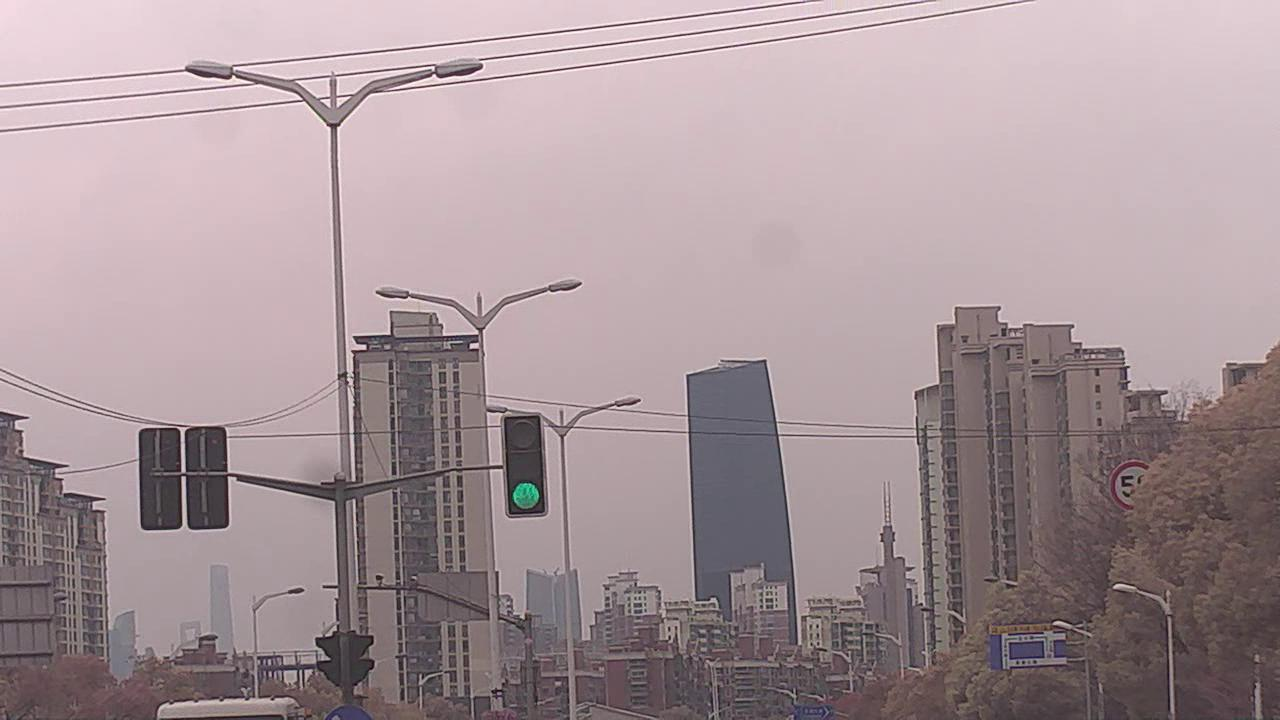traffic_light: (499, 413, 548, 522)
